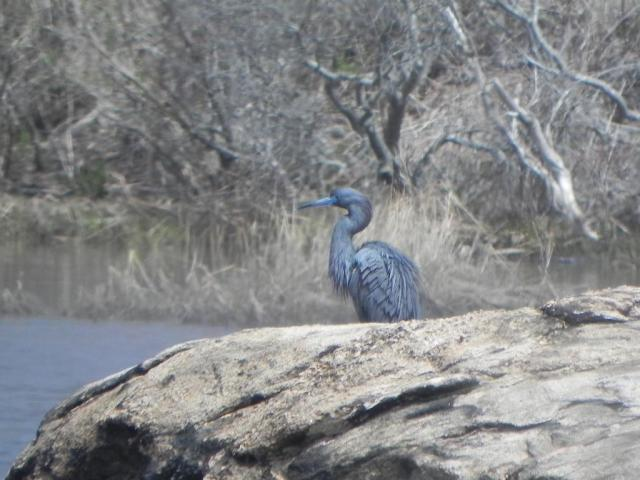Bird: (300, 181, 421, 326)
